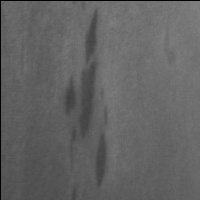inclusion: (63, 6, 110, 192), (88, 125, 114, 197), (160, 26, 181, 69), (60, 72, 79, 118)
